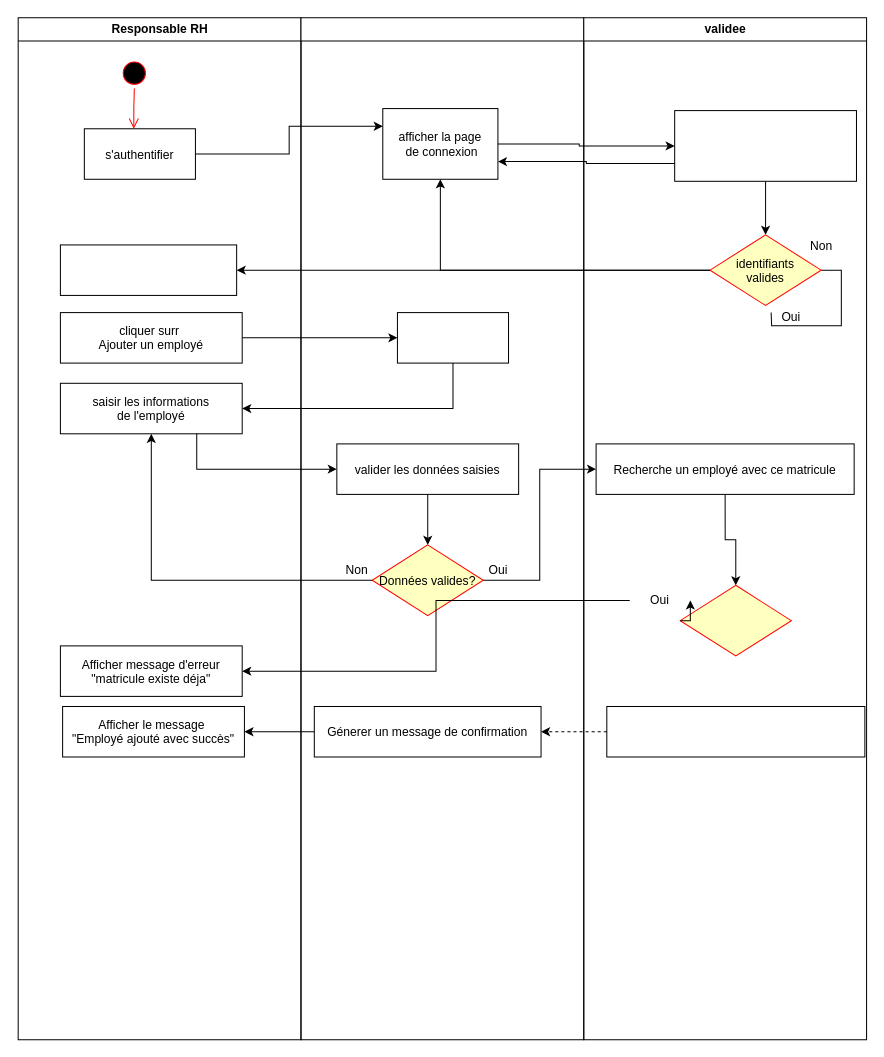
Some shapes in this 884 by 1057 pixel diagram are drawn without their labels. Each missing label, with the box of its shape:
Accéder à la page de gestion des employésr: (59, 244, 237, 295)
Afficher le formulaire d'ajout d'employé: (396, 312, 509, 363)
Enregidtrer le nouvel employé dans la table: (606, 705, 865, 757)
matricule déja existant?: (679, 584, 791, 656)
Système: (300, 17, 584, 1040)
Vérifier identifiants (username,password): (674, 110, 856, 181)
